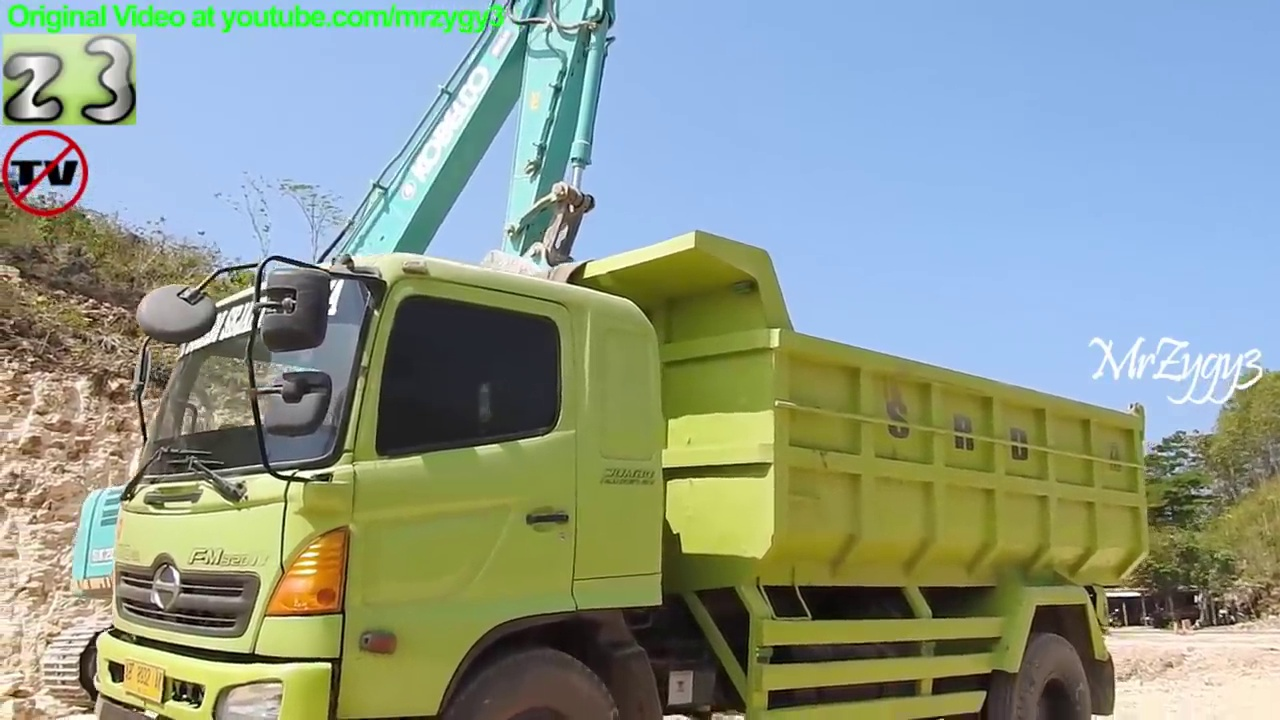excavator: (40, 1, 626, 720)
truck: (85, 221, 1155, 720)
